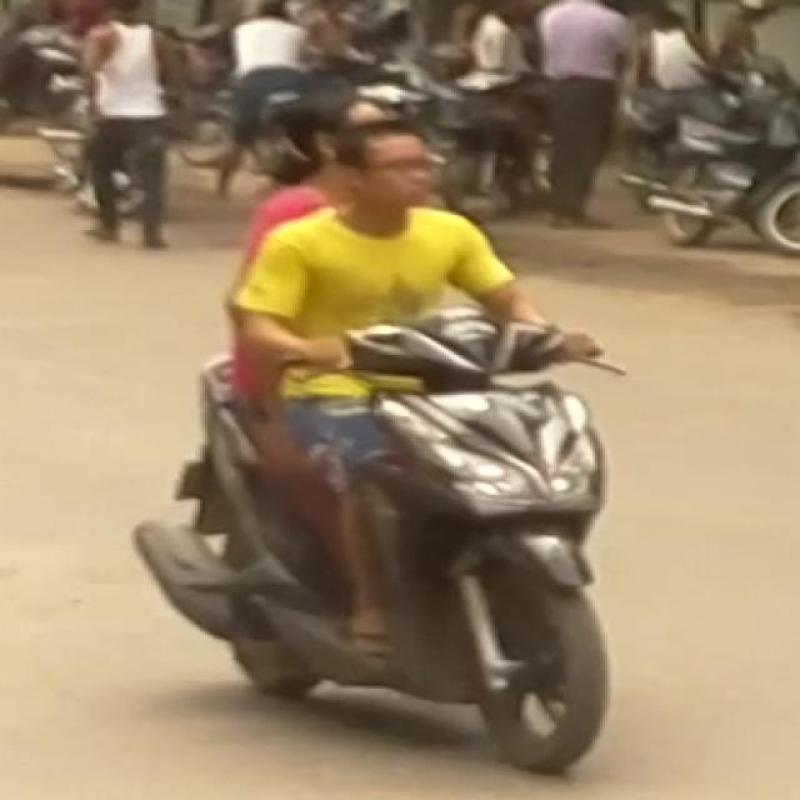nohelmet: (310, 108, 478, 213)
